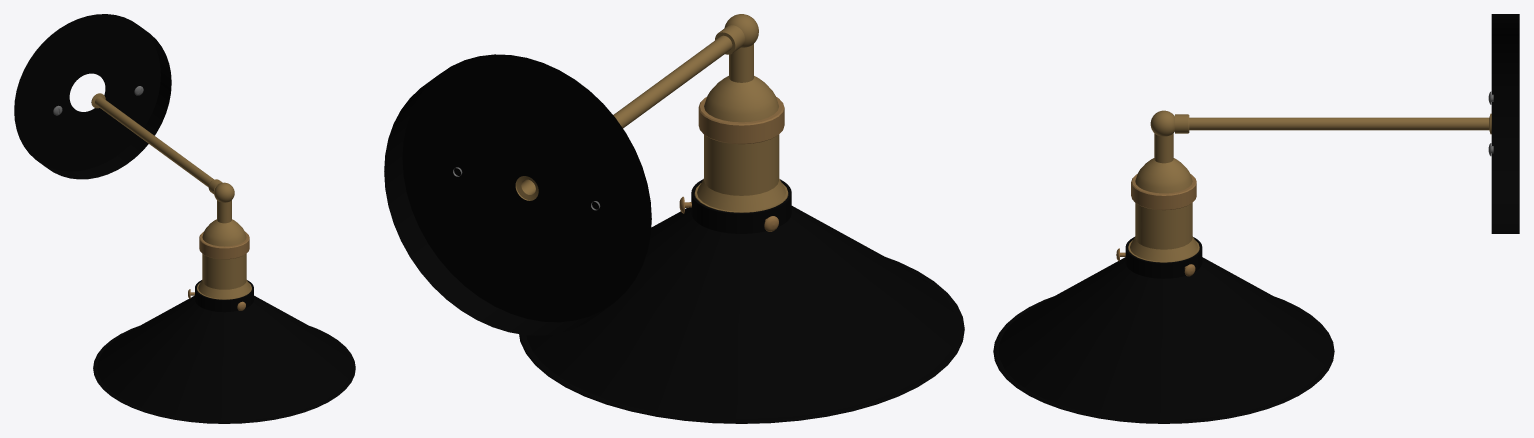
File: wall lamp.fbx
The picture shows the model from 3 angles, left to right: view 1: azimuth 30°, elevation 25°; view 2: azimuth 150°, elevation 25°; view 3: azimuth 270°, elevation 25°; orthographic projection. The views are drawn at different scales.
Parts seen in each view (by area): view 1: Circle.001, Circle.004, Circle; view 2: Circle.001, Circle.004, Circle; view 3: Circle.001, Circle, Circle.004.
Boxes of the visible parts, bbox=[...] form: Circle.001: bbox=[93, 280, 355, 423]; Circle.004: bbox=[14, 14, 171, 179]; Circle: bbox=[53, 86, 251, 299]; Circle.001: bbox=[519, 179, 964, 423]; Circle.004: bbox=[384, 54, 651, 335]; Circle: bbox=[453, 14, 788, 212]; Circle.001: bbox=[993, 237, 1334, 423]; Circle: bbox=[1128, 91, 1493, 262]; Circle.004: bbox=[1491, 14, 1519, 233].
Size of the model in its own units: 307 by 360 by 473.
